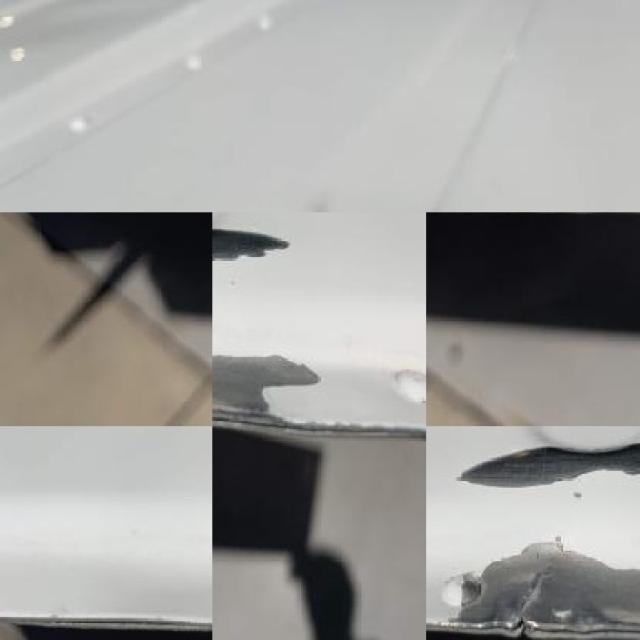crack: (512, 566, 577, 640)
